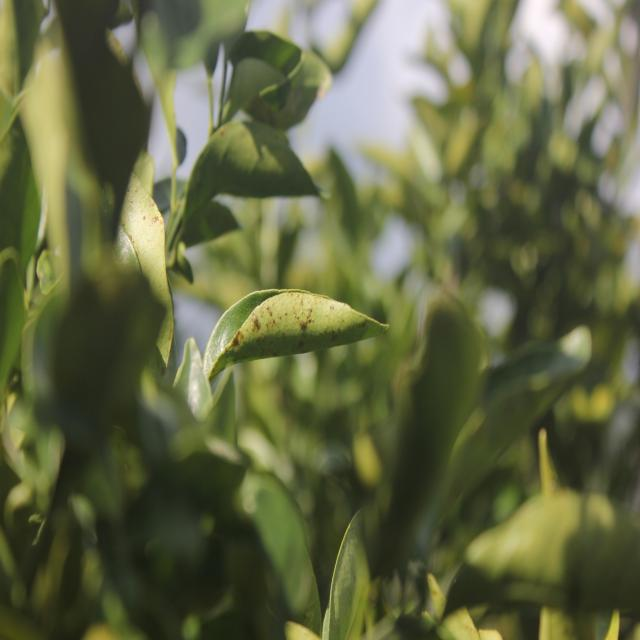melanose: (195, 274, 396, 388), (123, 186, 182, 366)
